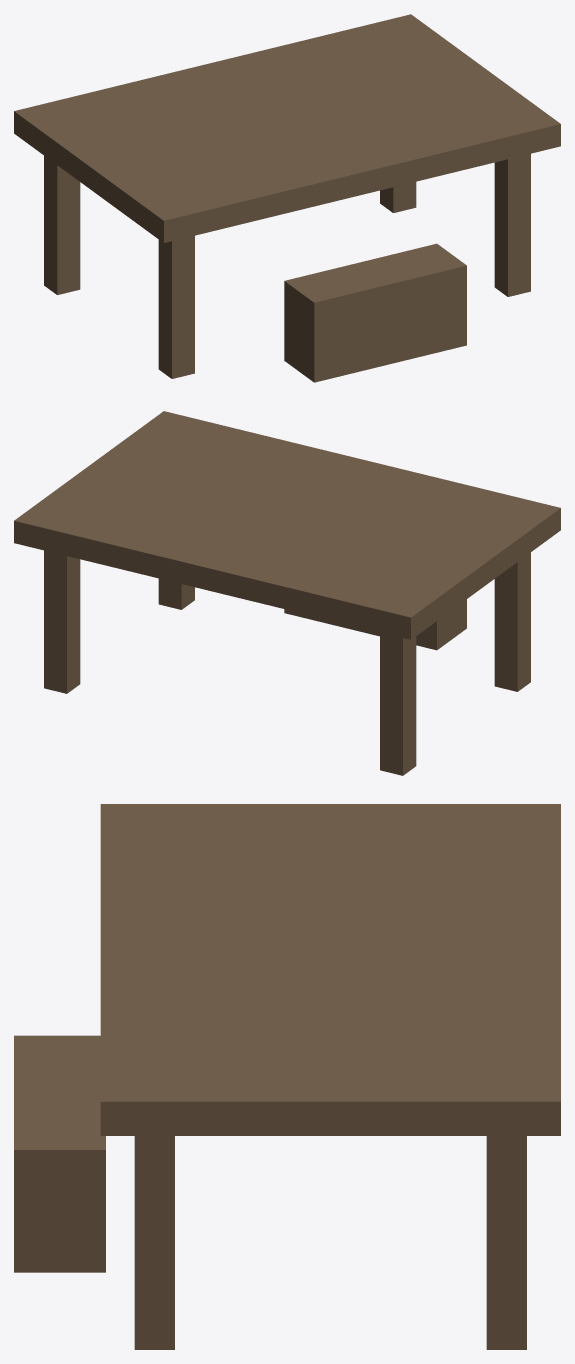
The model's file is platform.glb.
3 views of the same model, one above another, from view 1: azimuth 30°, elevation 25°; view 2: azimuth 150°, elevation 25°; view 3: azimuth 270°, elevation 25° (orthographic). The views are drawn at different scales.
Parts seen in each view (by area): view 1: platform; view 2: platform; view 3: platform.
Part boxes in pixels (x1,y1,x2,y2): platform: (14, 14, 560, 382); platform: (14, 411, 560, 775); platform: (14, 804, 560, 1349).
Bounding box in the file's own units: 2.6 × 1.07 × 2.02.
